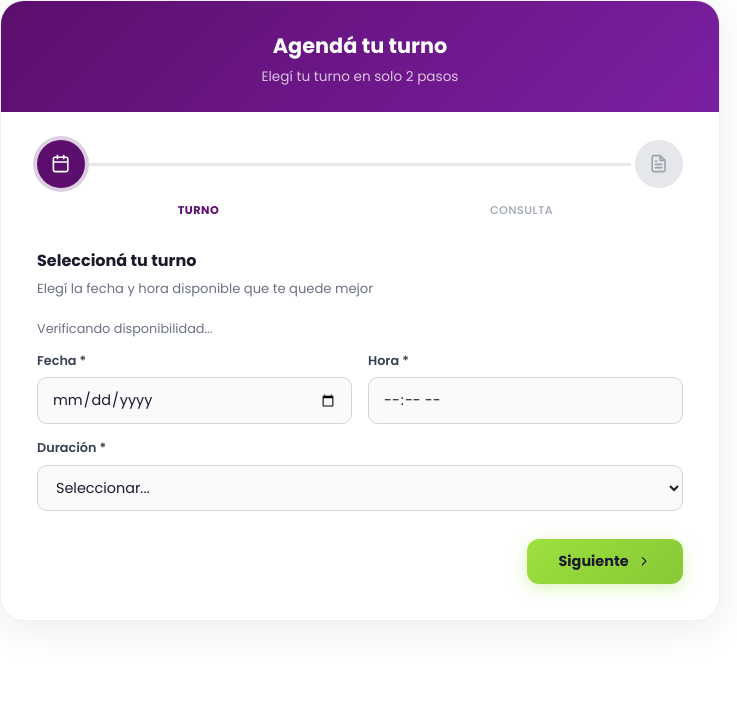
Test: valida el turno: domingo, superposición y fin del horario
This screenshot has width=737, height=724.
Step 1. Type "2030-03-10" into the date field → (194, 401), box 37,378 -> 352,424
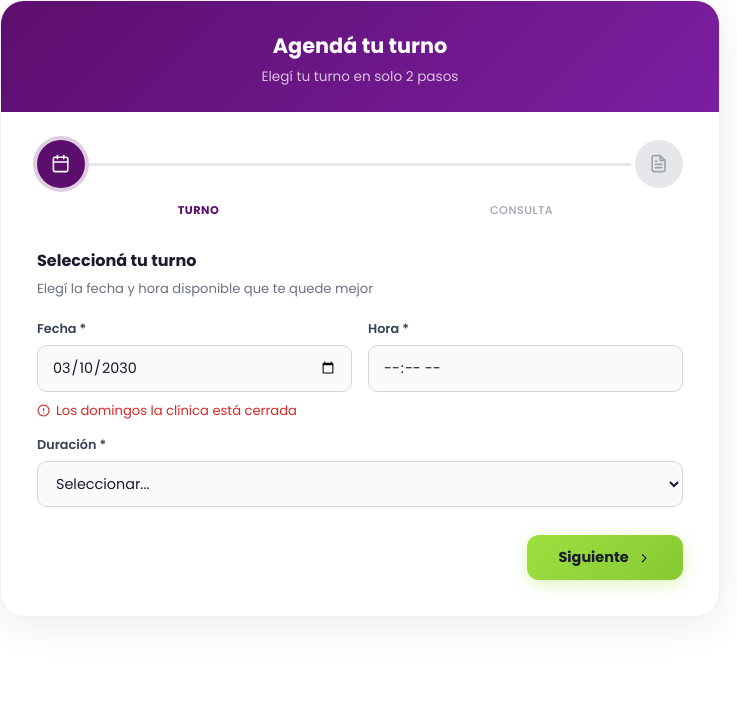
Expected: the text "Los domingos la clínica está cerrada" is shown, 37,401 -> 297,420
Step 2. Type "2030-03-12" into the date field → (194, 368), box 37,345 -> 352,392
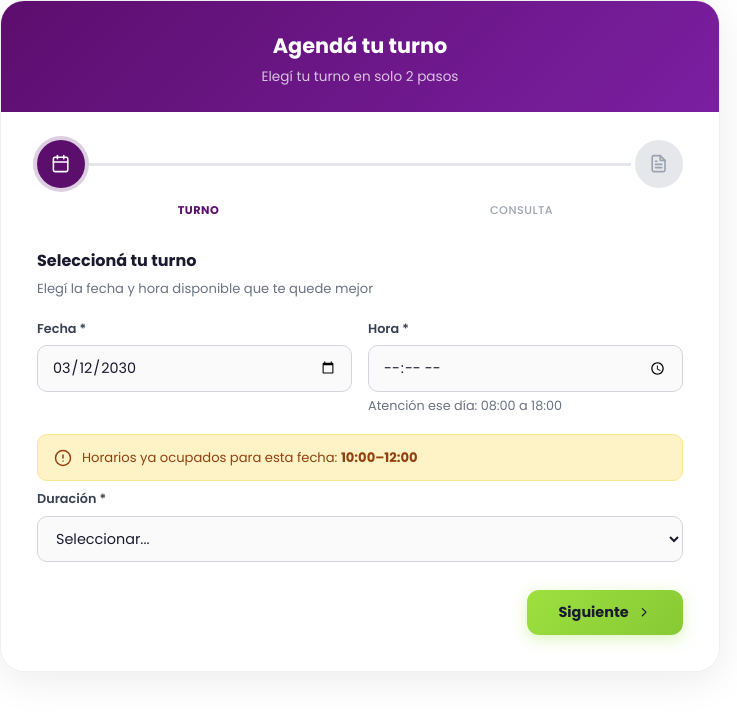
Step 3. Select "1 hora" in the dropdown → (360, 539), box 37,516 -> 683,562
Step 4. Type "11:00" into the time field → (526, 368), box 368,345 -> 683,392
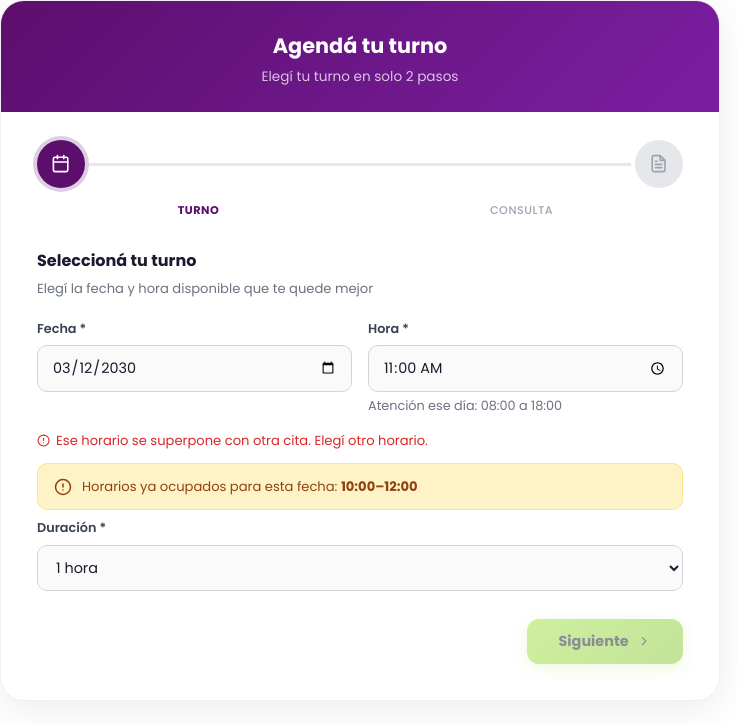
Expected: the text "10:00–12:00" is shown, 341,478 -> 418,496
Expected: the text "Ese horario se superpone con otra cita. Elegí otro horario." is shown, 37,432 -> 428,450
Step 5. Type "2030-03-13" into the date field → (194, 368), box 37,345 -> 352,392
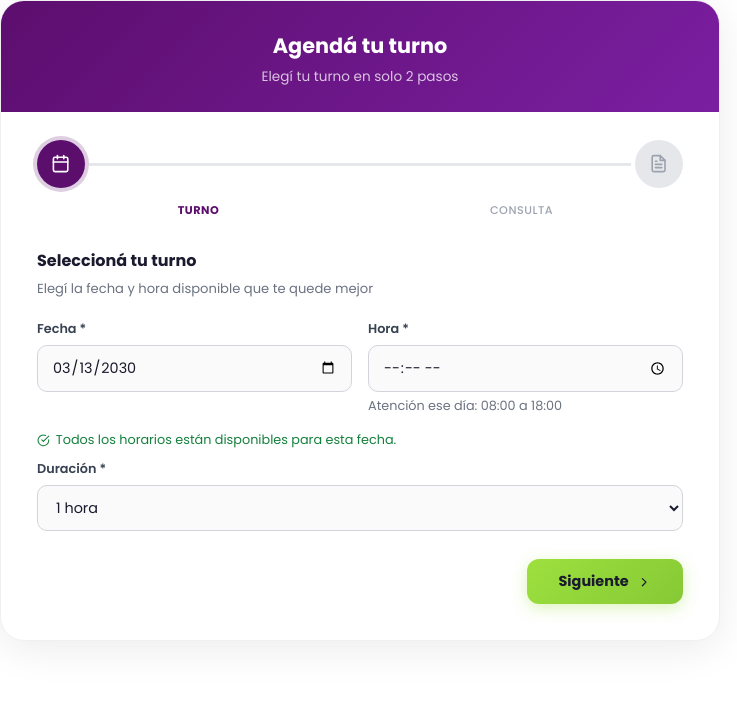
Step 6. Select "2 horas" in the dropdown → (360, 508), box 37,485 -> 683,531
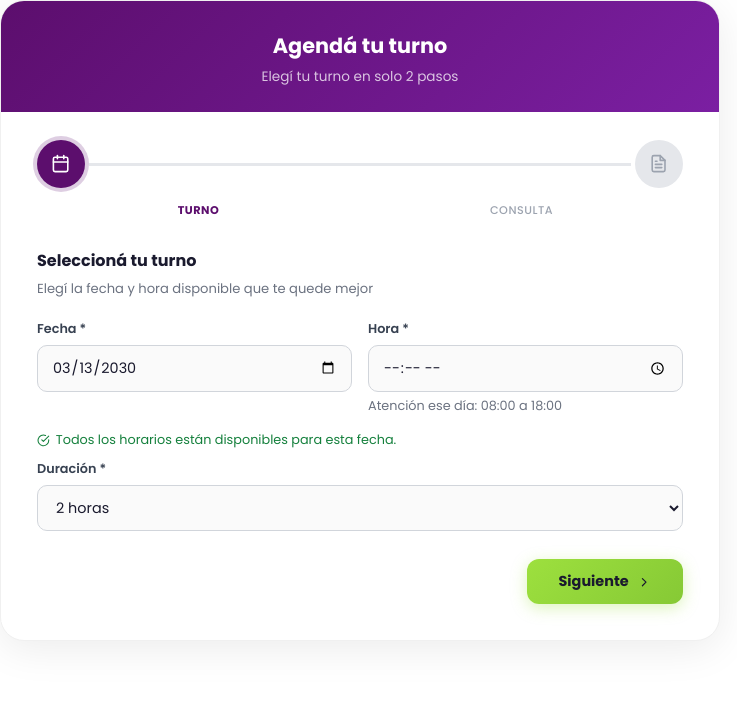
Step 7. Type "17:00" into the time field → (526, 368), box 368,345 -> 683,392
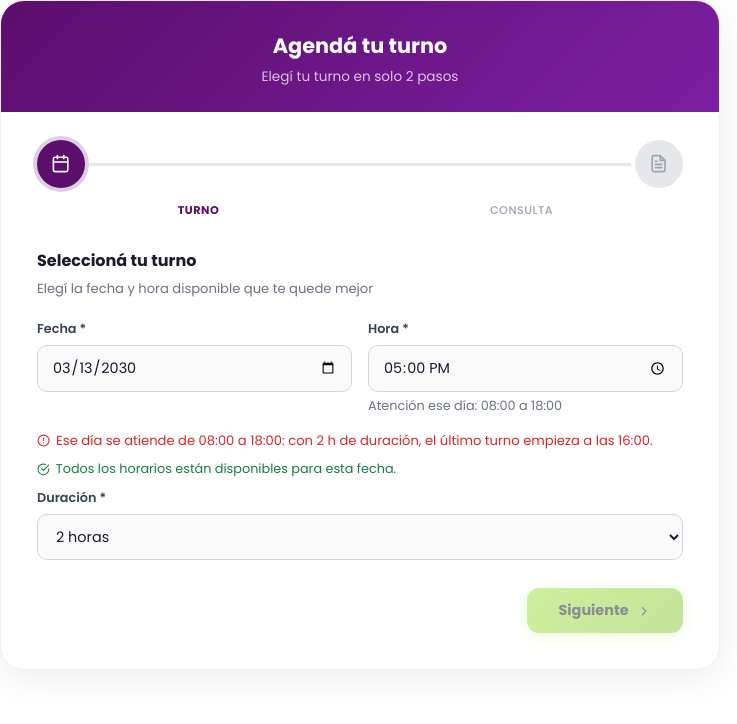
Expected: the text "último turno empieza a las 16:00" is shown, 56,432 -> 653,450
